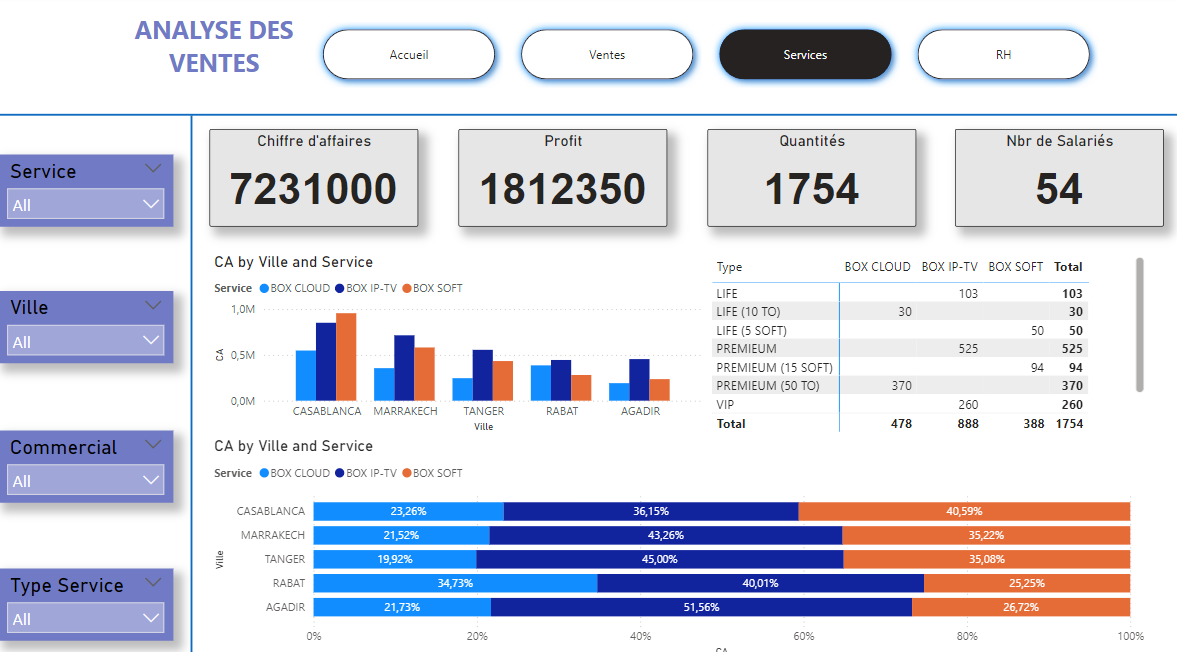

What the dashboard file says about the page in this screenshot:
{"tool":"powerbi","page":{"name":"Services","canvas":[1280,720],"ordinal":2},"visuals":[{"type":"shape","box":[0,119.8,1280.8,21],"z":0},{"type":"shape","box":[189.4,131.2,38.9,589.4],"z":1000},{"type":"slicer","fields":{"Values":["Services.Service"]},"box":[0,173.3,189.4,77.7],"z":2000},{"type":"card","title":"Chiffre d''affaires","fields":{"Values":["analyses.CA"]},"box":[228.3,145.7,225.1,105.2],"z":3000},{"type":"slicer","fields":{"Values":["RH.Nom"]},"box":[0,471.2,189.4,77.7],"z":4000},{"type":"slicer","fields":{"Values":["RH.Ville"]},"box":[0,320.6,189.4,77.7],"z":5000},{"type":"slicer","fields":{"Values":["Services.Type"]},"box":[0,620.2,189.4,77.7],"z":6000},{"type":"card","title":"Profit","fields":{"Values":["analyses.Profit"]},"box":[497.1,145.7,225.1,105.2],"z":7000},{"type":"card","title":"Quantités","fields":{"Values":["analyses.Quantité"]},"box":[765.9,145.7,225.1,105.2],"z":8000},{"type":"card","title":"Nbr de Salariés","fields":{"Values":["Count(RH.Matricule)"]},"box":[1033.1,145.7,225.1,105.2],"z":9000},{"type":"pageNavigator","box":[341.7,29.1,848.5,72.9],"z":9001},{"type":"textbox","box":[124.7,14.6,217,87.4],"z":9002},{"type":"clusteredColumnChart","fields":{"Category":["RH.Ville"],"Y":["analyses.CA"],"Series":["Services.Service"]},"box":[228.3,278.5,537.6,199.2],"z":9003},{"type":"pivotTable","fields":{"Rows":["Services.Type"],"Columns":["Services.Service"],"Values":["analyses.Quantité"]},"box":[765.9,278.5,476.1,199.2],"z":9004},{"type":"hundredPercentStackedBarChart","fields":{"Category":["RH.Ville"],"Y":["analyses.CA"],"Series":["Services.Service"]},"box":[228.3,477.7,1013.6,242.9],"z":9005}]}

Visuals, with their boxes in screenshot pixels (x1, y1, x2, y2), scaled from the page's 1280x720 canvas onto the 1177x652 screenshot:
shape: 0, 108, 1176, 128
shape: 174, 119, 210, 651
slicer - Services.Service: 0, 157, 174, 227
"Chiffre d''affaires" card: 210, 132, 417, 227
slicer - RH.Nom: 0, 427, 174, 497
slicer - RH.Ville: 0, 290, 174, 361
slicer - Services.Type: 0, 562, 174, 632
"Profit" card: 457, 132, 664, 227
"Quantités" card: 704, 132, 911, 227
"Nbr de Salariés" card: 950, 132, 1157, 227
pageNavigator: 314, 26, 1094, 92
textbox: 115, 13, 314, 92
clusteredColumnChart - RH.Ville x analyses.CA: 210, 252, 704, 433
pivotTable - Services.Type x Services.Service: 704, 252, 1142, 433
hundredPercentStackedBarChart - RH.Ville x analyses.CA: 210, 433, 1142, 651
